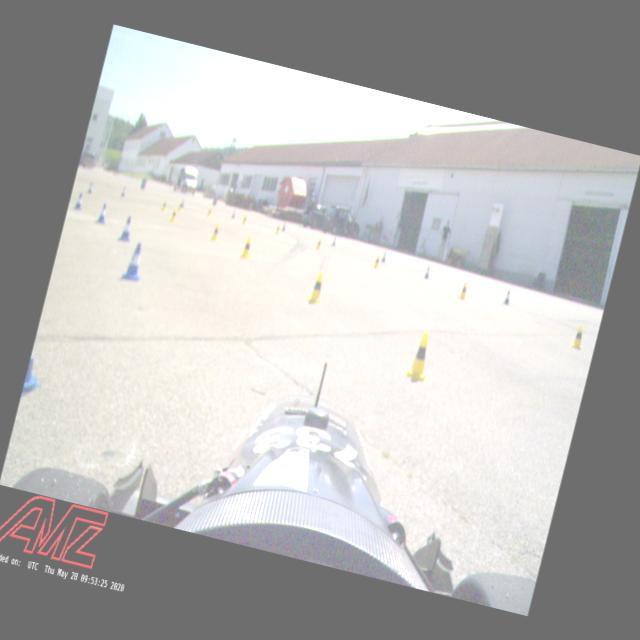blue_cone: (120, 240, 148, 284), (117, 213, 135, 243), (94, 201, 110, 225), (72, 190, 84, 212), (502, 287, 514, 304), (422, 264, 432, 280), (86, 180, 94, 194), (119, 184, 127, 197), (380, 250, 387, 263), (230, 208, 237, 220), (330, 235, 337, 246), (280, 222, 286, 232)
yellow_cone: (400, 329, 440, 386), (305, 268, 331, 307), (569, 322, 588, 351), (238, 233, 255, 260), (208, 220, 222, 241), (458, 280, 470, 300), (314, 234, 324, 252), (168, 206, 178, 224), (372, 253, 382, 269), (205, 202, 214, 216), (160, 197, 168, 212), (240, 212, 248, 224), (176, 199, 183, 212), (274, 222, 281, 234)
